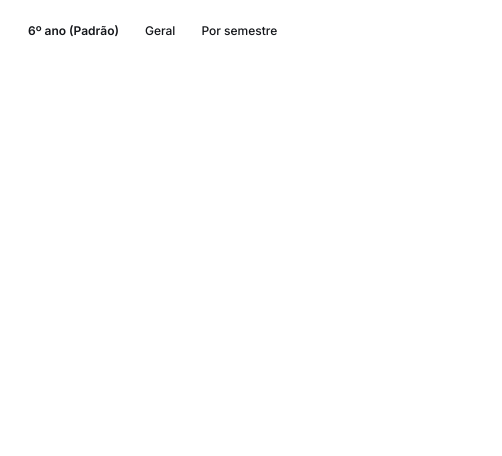
Scenario: FiltroSemestre (spec §4.5) › "Por semestre" só REVELA o dropdown — o recorte não muda até escolherem um semestre
The width and height of the screenshot is (502, 456).
What coordinates should you click on to do the following:
click the radio button labelled "Por semestre"
I would click on:
 (239, 31)
Its box is [188,15,290,47].
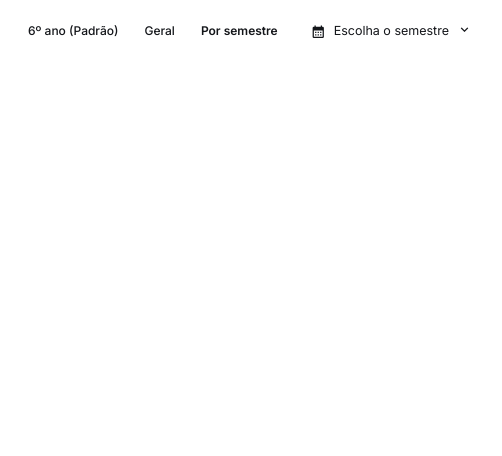
Check: the dropdown named "semestre específico" is shown
Check: the dropdown named "semestre específico" reads "Escolha o semestre"
What coordinates should you click on to do the following:
click the dropdown named "semestre específico"
I would click on:
 (391, 31)
Its box is [300,15,483,47].
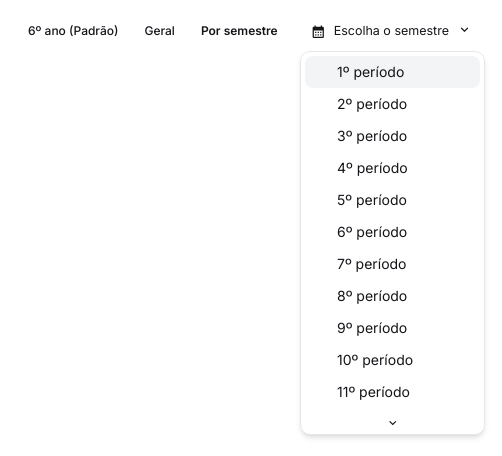
What coordinates should you click on to do the following:
click the option "3º período"
I would click on:
 (372, 136)
Its box is [337,127,407,144].
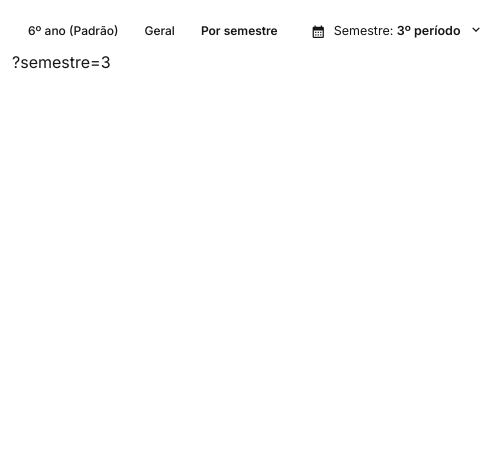
Check: the text with test id "search" reads "?semestre=3", box [12,52,110,72]
